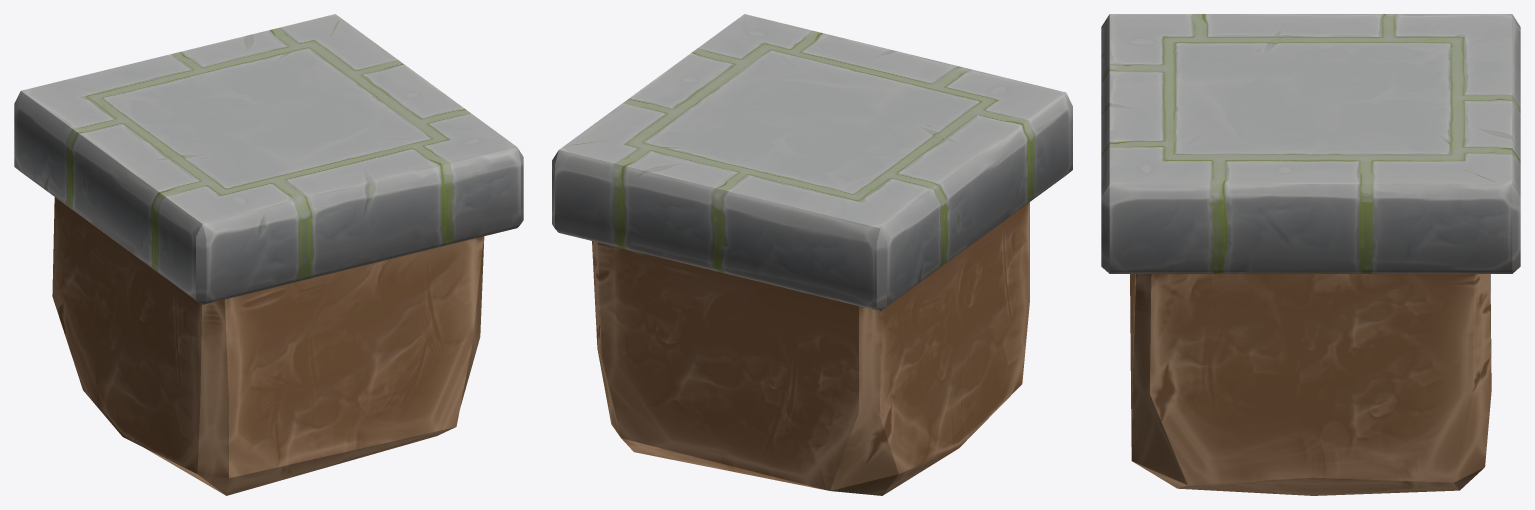
File: arena block ready.fbx
The picture shows the model from 3 angles, left to right: view 1: azimuth 30°, elevation 25°; view 2: azimuth 150°, elevation 25°; view 3: azimuth 270°, elevation 25°; orthographic projection. The views are drawn at different scales.
Parts seen in each view (by area): view 1: Cube.001; view 2: Cube.001; view 3: Cube.001.
Boxes of the visible parts, bbox=[...] form: Cube.001: bbox=[14, 14, 523, 495]; Cube.001: bbox=[552, 14, 1072, 495]; Cube.001: bbox=[1101, 14, 1520, 495].
Bounding box in the file's own units: 729 × 644 × 729.
